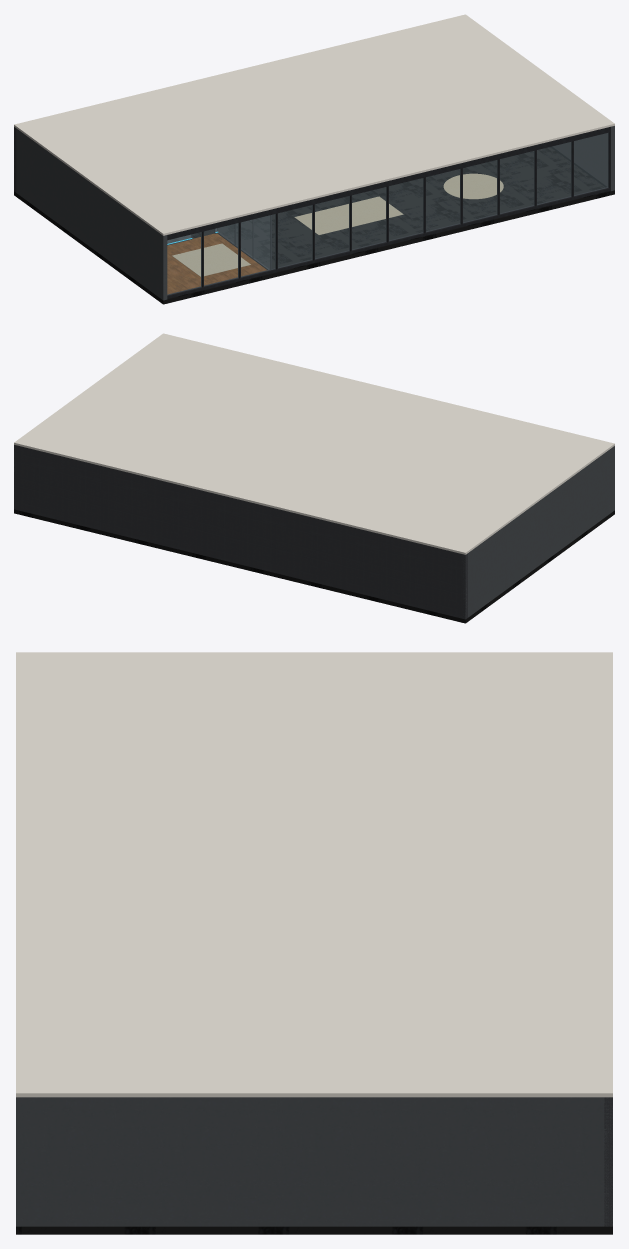
Rendered from office-shell.glb.
3 views of the same model, one above another, from view 1: azimuth 30°, elevation 25°; view 2: azimuth 150°, elevation 25°; view 3: azimuth 270°, elevation 25° (orthographic). The views are drawn at different scales.
Visible parts, largest first — view 1: Shell_Ceiling, Shell_Glass, Shell_FloorTiles, Shell_Plaster, Shell_FrameMetal, Shell_Carpet, Shell_WoodFloor; view 2: Shell_Ceiling, Shell_BackWall, Shell_Plaster, Shell_FloorTiles; view 3: Shell_Ceiling, Shell_Plaster, Shell_FloorTiles, Shell_BackWall.
Part boxes in pixels (left/top/right/bottom): Shell_Ceiling: left=14, top=14, right=614, bottom=235; Shell_Glass: left=167, top=133, right=608, bottom=294; Shell_FloorTiles: left=14, top=147, right=614, bottom=304; Shell_Plaster: left=14, top=126, right=614, bottom=300; Shell_FrameMetal: left=167, top=127, right=610, bottom=298; Shell_Carpet: left=172, top=173, right=503, bottom=276; Shell_WoodFloor: left=167, top=233, right=266, bottom=294; Shell_Ceiling: left=14, top=333, right=614, bottom=554; Shell_BackWall: left=14, top=445, right=467, bottom=619; Shell_Plaster: left=14, top=445, right=614, bottom=619; Shell_FloorTiles: left=14, top=509, right=614, bottom=623; Shell_Ceiling: left=16, top=652, right=612, bottom=1097; Shell_Plaster: left=16, top=1097, right=612, bottom=1226; Shell_FloorTiles: left=16, top=1226, right=612, bottom=1234; Shell_BackWall: left=604, top=1097, right=612, bottom=1226.
Size of the model in its own units: 23.4 by 3.5 by 13.4.
Materials: 13 (7 with a texture image).
